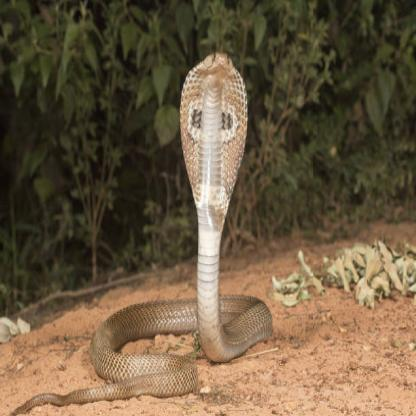Snake: (53, 43, 275, 399)
